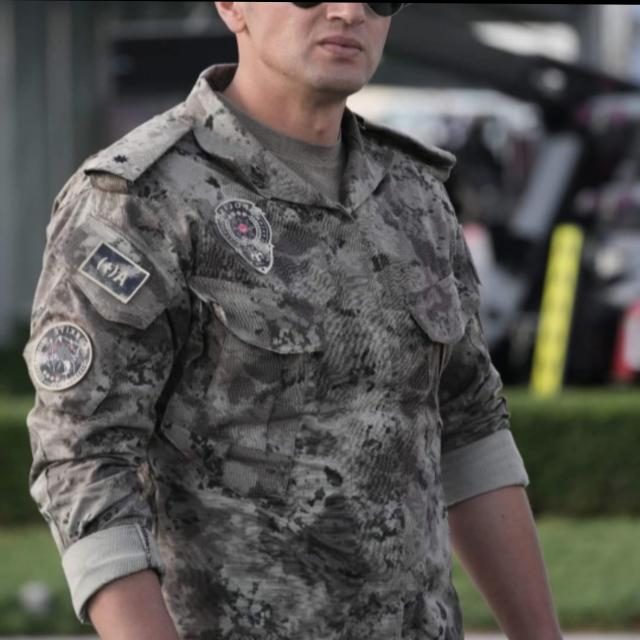poh_personel: (22, 0, 564, 640)
